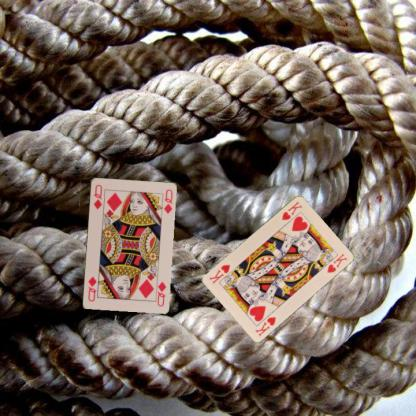Kh: (252, 314, 277, 337), (279, 198, 303, 221)
Qd: (153, 277, 167, 307), (91, 182, 103, 210)
